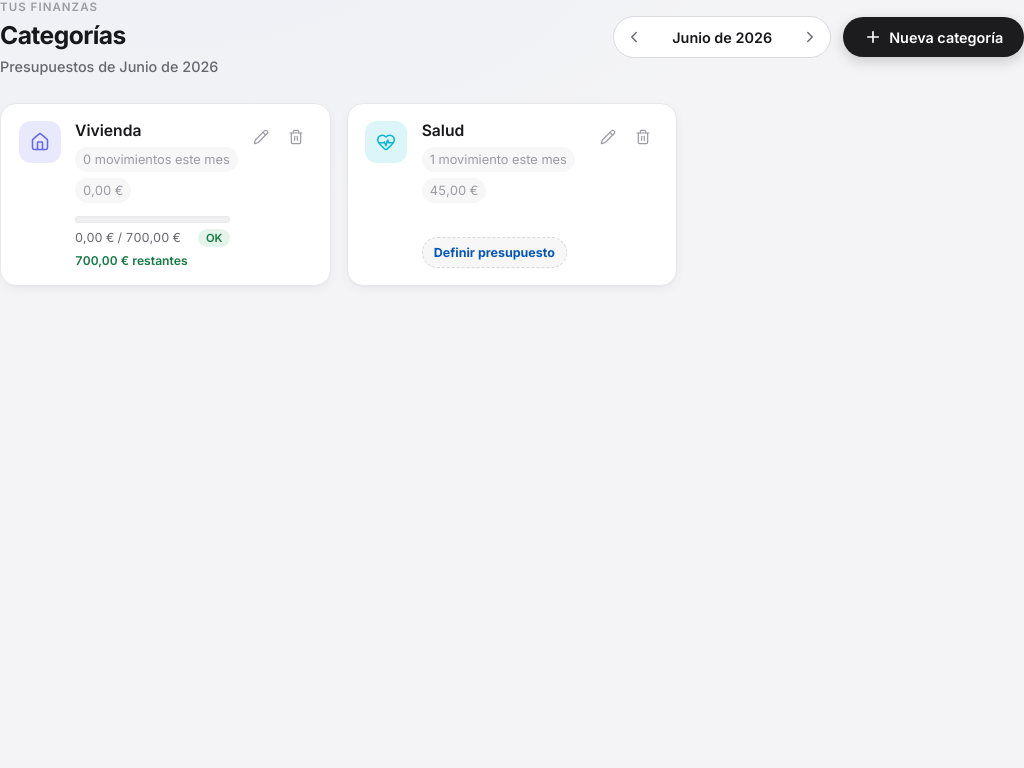
CategoriesPage › blocks deletion of a category with transactions
Click the button named "Borrar" in the row of "Salud".
click(643, 137)  # box left=627, top=121, right=659, bottom=153
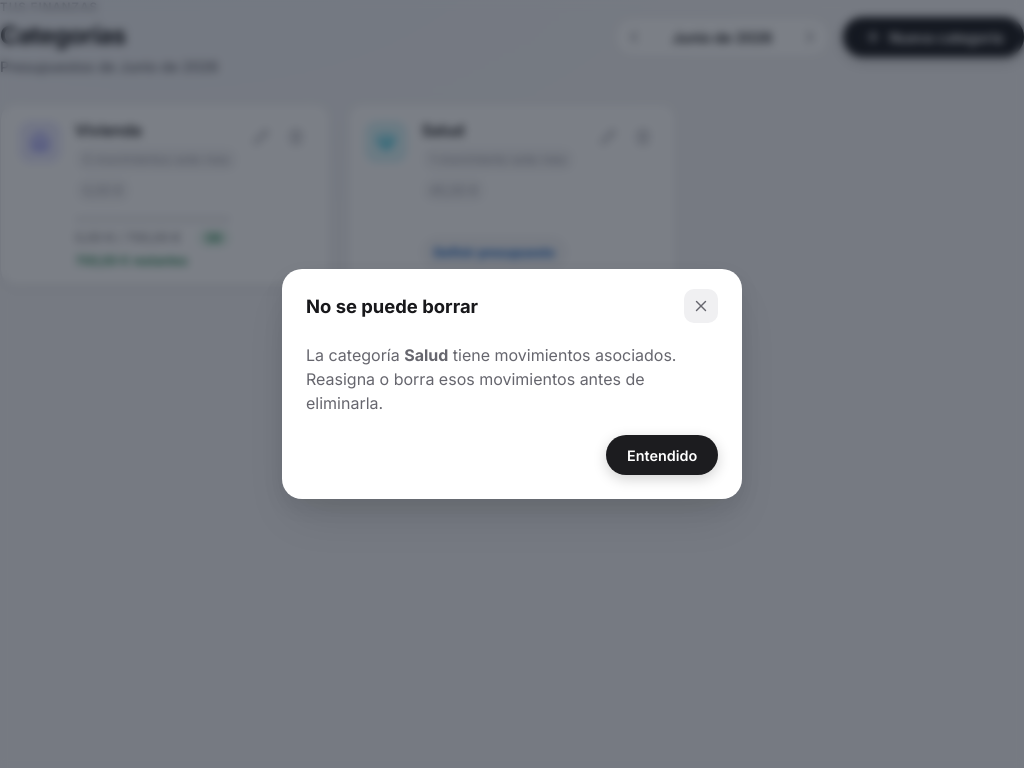
Expected: the heading "No se puede borrar" is shown, left=306, top=295, right=478, bottom=317
Expected: the text "tiene movimientos asociados" is shown, left=306, top=345, right=676, bottom=413
